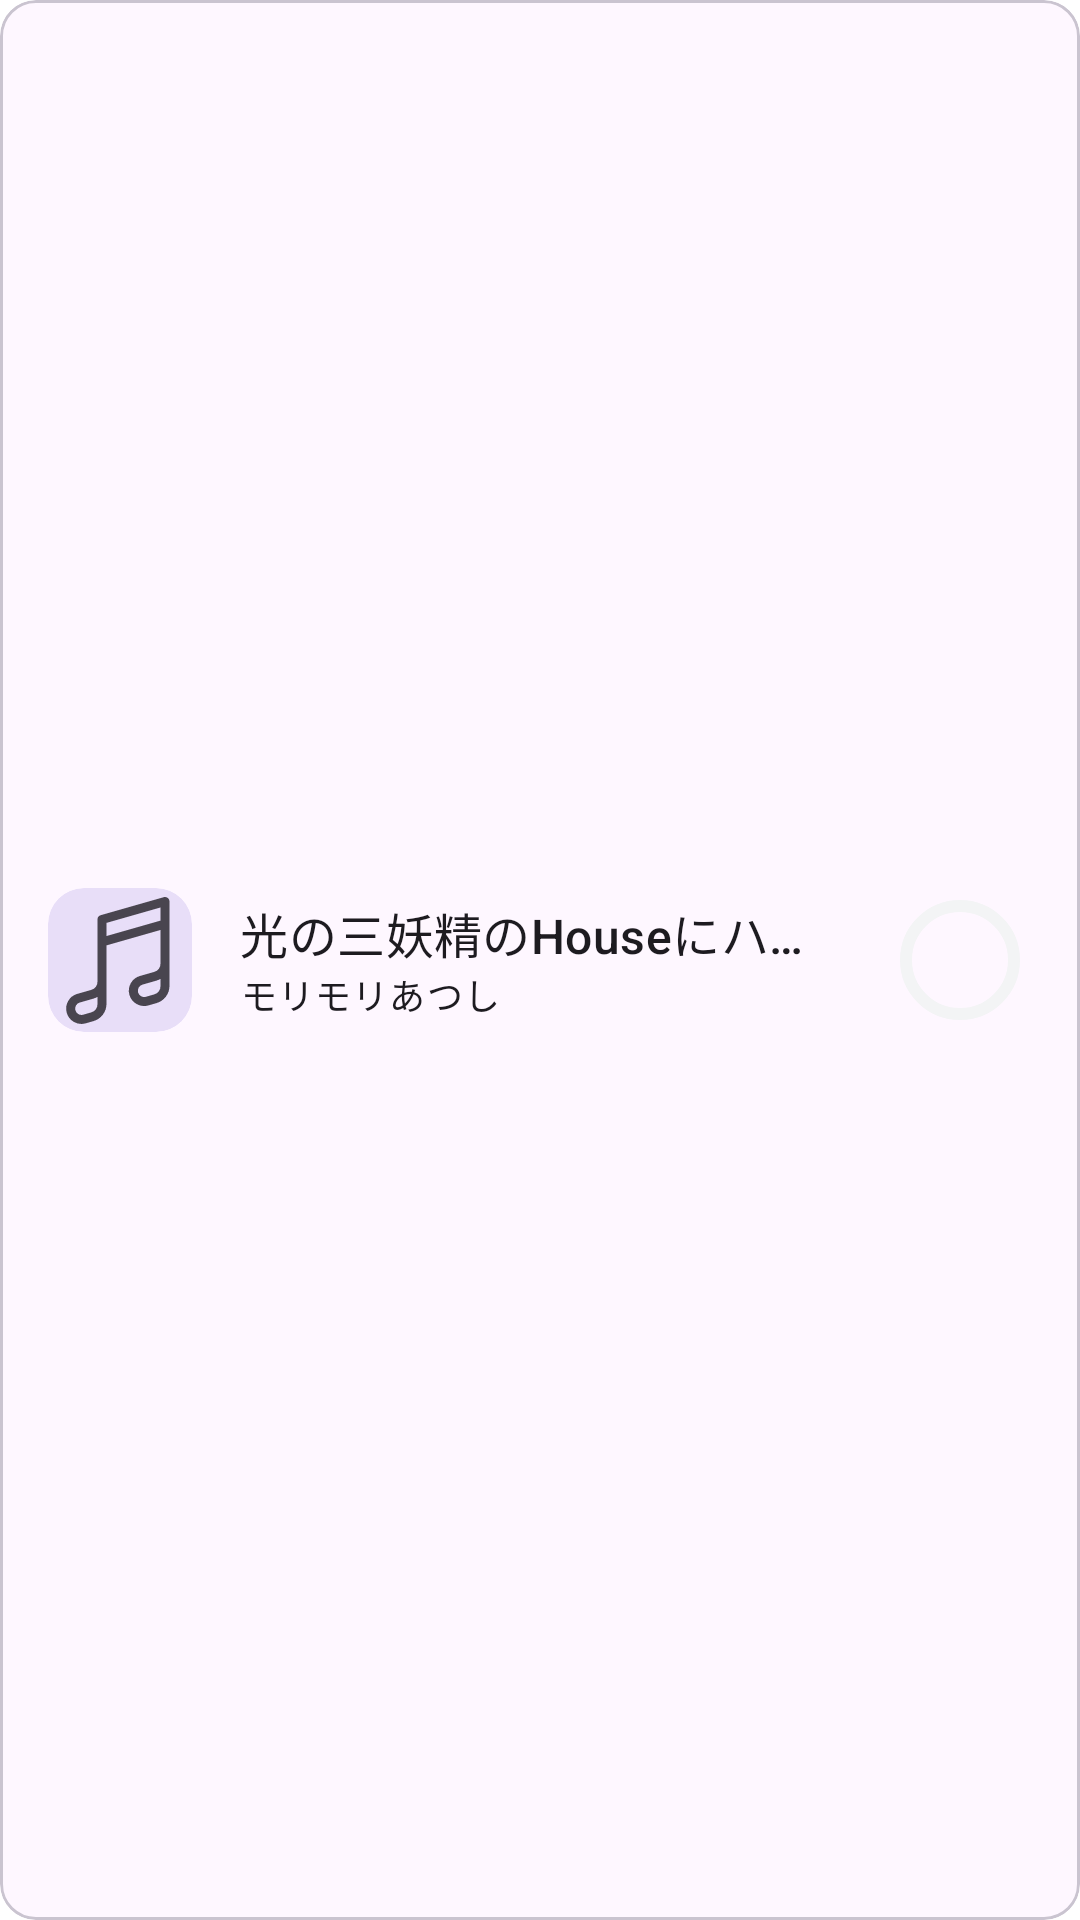

Locate icon controls on the screen. Image size 1080 × 1920, boxes as [x1,y1,x2,y2].
music: [48,888,192,1032]
